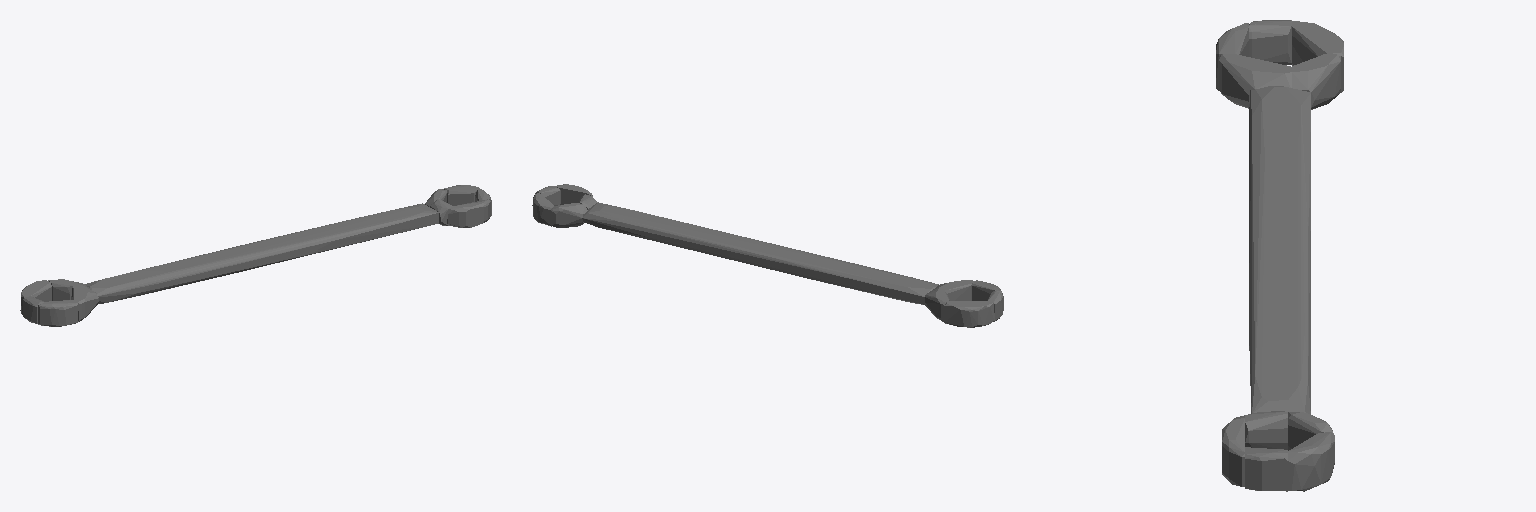
The robot description file, URDF, robot "wrench_024":
<?xml version="1.0" ?>
<robot name="wrench_024">
  <material name="color">
    <color rgba=".5 .5 .5 1"/>
  </material>

  <link name="base_link">
    <contact>
      <lateral_friction value="1.0"/>
      <rolling_friction value="0.001"/>
      <spinning_friction value="0.001"/>
      <inertia_scaling value="1.0"/>
    </contact>
    <inertial>
      <origin rpy="0 0 0" xyz="-0.0024436 -0.000156716 -5.66349e-05"/>
       <mass value="0.1"/>
       <inertia ixx="1" ixy="0" ixz="0" iyy="1" iyz="0" izz="1"/>
    </inertial>

    <visual>
      <origin rpy="0 0 0" xyz="0 0 0"/>
      <geometry>
        <mesh filename="wrench_024_vhacd_0_of_11.obj" scale="1 1 1"/>
      </geometry>
      <material name="color"/>
    </visual>
    <visual>
      <origin rpy="0 0 0" xyz="0 0 0"/>
      <geometry>
        <mesh filename="wrench_024_vhacd_1_of_11.obj" scale="1 1 1"/>
      </geometry>
      <material name="color"/>
    </visual>
    <visual>
      <origin rpy="0 0 0" xyz="0 0 0"/>
      <geometry>
        <mesh filename="wrench_024_vhacd_2_of_11.obj" scale="1 1 1"/>
      </geometry>
      <material name="color"/>
    </visual>
    <visual>
      <origin rpy="0 0 0" xyz="0 0 0"/>
      <geometry>
        <mesh filename="wrench_024_vhacd_3_of_11.obj" scale="1 1 1"/>
      </geometry>
      <material name="color"/>
    </visual>
    <visual>
      <origin rpy="0 0 0" xyz="0 0 0"/>
      <geometry>
        <mesh filename="wrench_024_vhacd_4_of_11.obj" scale="1 1 1"/>
      </geometry>
      <material name="color"/>
    </visual>
    <visual>
      <origin rpy="0 0 0" xyz="0 0 0"/>
      <geometry>
        <mesh filename="wrench_024_vhacd_5_of_11.obj" scale="1 1 1"/>
      </geometry>
      <material name="color"/>
    </visual>
    <visual>
      <origin rpy="0 0 0" xyz="0 0 0"/>
      <geometry>
        <mesh filename="wrench_024_vhacd_6_of_11.obj" scale="1 1 1"/>
      </geometry>
      <material name="color"/>
    </visual>
    <visual>
      <origin rpy="0 0 0" xyz="0 0 0"/>
      <geometry>
        <mesh filename="wrench_024_vhacd_7_of_11.obj" scale="1 1 1"/>
      </geometry>
      <material name="color"/>
    </visual>
    <visual>
      <origin rpy="0 0 0" xyz="0 0 0"/>
      <geometry>
        <mesh filename="wrench_024_vhacd_8_of_11.obj" scale="1 1 1"/>
      </geometry>
      <material name="color"/>
    </visual>
    <visual>
      <origin rpy="0 0 0" xyz="0 0 0"/>
      <geometry>
        <mesh filename="wrench_024_vhacd_9_of_11.obj" scale="1 1 1"/>
      </geometry>
      <material name="color"/>
    </visual>
    <visual>
      <origin rpy="0 0 0" xyz="0 0 0"/>
      <geometry>
        <mesh filename="wrench_024_vhacd_10_of_11.obj" scale="1 1 1"/>
      </geometry>
      <material name="color"/>
    </visual>

    <collision>
      <origin rpy="0 0 0" xyz="0 0 0"/>
      <geometry>
        <mesh filename="wrench_024_vhacd_0_of_11.obj" scale="1 1 1"/>
      </geometry>
    </collision>
    <collision>
      <origin rpy="0 0 0" xyz="0 0 0"/>
      <geometry>
        <mesh filename="wrench_024_vhacd_1_of_11.obj" scale="1 1 1"/>
      </geometry>
    </collision>
    <collision>
      <origin rpy="0 0 0" xyz="0 0 0"/>
      <geometry>
        <mesh filename="wrench_024_vhacd_2_of_11.obj" scale="1 1 1"/>
      </geometry>
    </collision>
    <collision>
      <origin rpy="0 0 0" xyz="0 0 0"/>
      <geometry>
        <mesh filename="wrench_024_vhacd_3_of_11.obj" scale="1 1 1"/>
      </geometry>
    </collision>
    <collision>
      <origin rpy="0 0 0" xyz="0 0 0"/>
      <geometry>
        <mesh filename="wrench_024_vhacd_4_of_11.obj" scale="1 1 1"/>
      </geometry>
    </collision>
    <collision>
      <origin rpy="0 0 0" xyz="0 0 0"/>
      <geometry>
        <mesh filename="wrench_024_vhacd_5_of_11.obj" scale="1 1 1"/>
      </geometry>
    </collision>
    <collision>
      <origin rpy="0 0 0" xyz="0 0 0"/>
      <geometry>
        <mesh filename="wrench_024_vhacd_6_of_11.obj" scale="1 1 1"/>
      </geometry>
    </collision>
    <collision>
      <origin rpy="0 0 0" xyz="0 0 0"/>
      <geometry>
        <mesh filename="wrench_024_vhacd_7_of_11.obj" scale="1 1 1"/>
      </geometry>
    </collision>
    <collision>
      <origin rpy="0 0 0" xyz="0 0 0"/>
      <geometry>
        <mesh filename="wrench_024_vhacd_8_of_11.obj" scale="1 1 1"/>
      </geometry>
    </collision>
    <collision>
      <origin rpy="0 0 0" xyz="0 0 0"/>
      <geometry>
        <mesh filename="wrench_024_vhacd_9_of_11.obj" scale="1 1 1"/>
      </geometry>
    </collision>
    <collision>
      <origin rpy="0 0 0" xyz="0 0 0"/>
      <geometry>
        <mesh filename="wrench_024_vhacd_10_of_11.obj" scale="1 1 1"/>
      </geometry>
    </collision>

  </link>
</robot>

--- Facts derived from the render (not from the file) ---
3 views of the same robot in one strip: view 1: azimuth 30°, elevation 25°; view 2: azimuth 150°, elevation 25°; view 3: azimuth 270°, elevation 25° (orthographic).
Model wrench_024 with 1 links and 0 joints (none), rooted at base_link, posed every joint at zero.
Visible links, largest first — view 1: base_link; view 2: base_link; view 3: base_link.
Boxes of the visible links, x1,y1,x2,y2 form: base_link: [20, 185, 491, 326]; base_link: [532, 184, 1003, 327]; base_link: [1216, 20, 1343, 491].
Bounding box of the posed robot: 0.2007 × 0.0252 × 0.0097 m (x, y, z).
11 mesh visuals loaded from 11 distinct referenced files (11 OBJ).